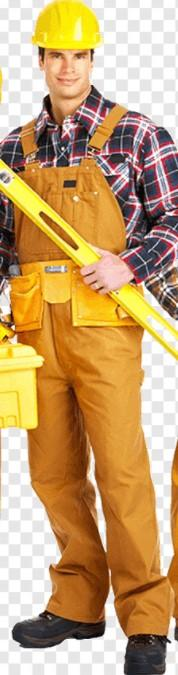boots: (12, 595, 176, 674)
hat: (34, 2, 106, 53)
no protective face gear: (31, 45, 100, 97)
no vest: (7, 100, 157, 296)
